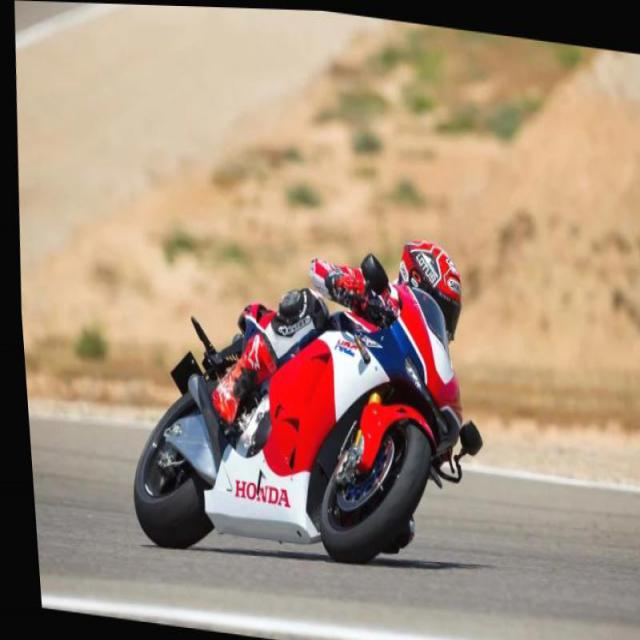HRC RCV 213: (110, 246, 476, 587)
